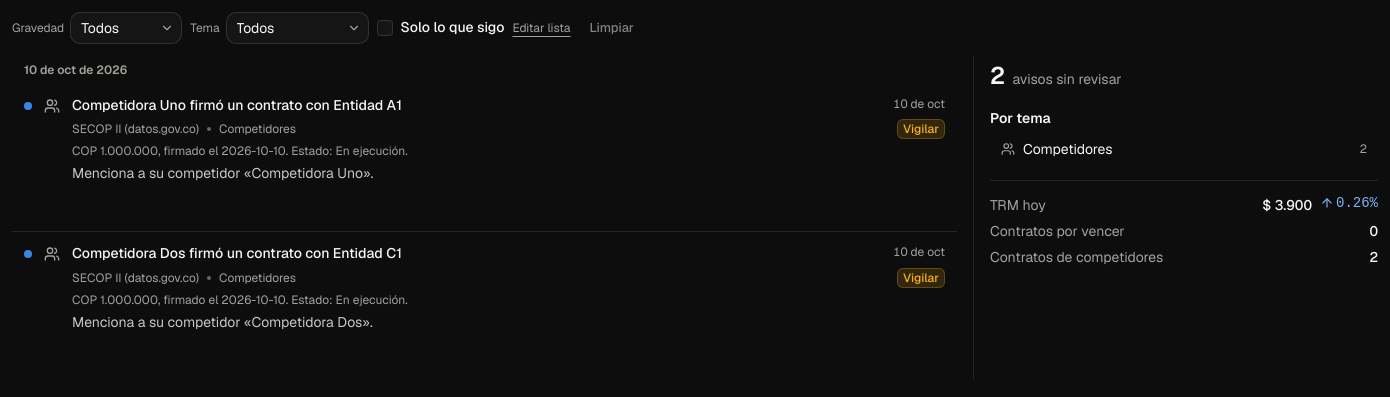
Test case: RadarView › watchlist filter (RF-15) › shows every new aviso until the toggle is on, then only the followed ones
The width and height of the screenshot is (1390, 397).
Expected: the button "Competidora Uno firmó un contrato con Entidad A1" is shown, left=72, top=96, right=402, bottom=115
Expected: the button "Competidora Dos firmó un contrato con Entidad C1" is shown, left=72, top=244, right=402, bottom=264
Click the checkbox named "Solo lo que sigo".
click(384, 28)  # box left=376, top=20, right=392, bottom=36
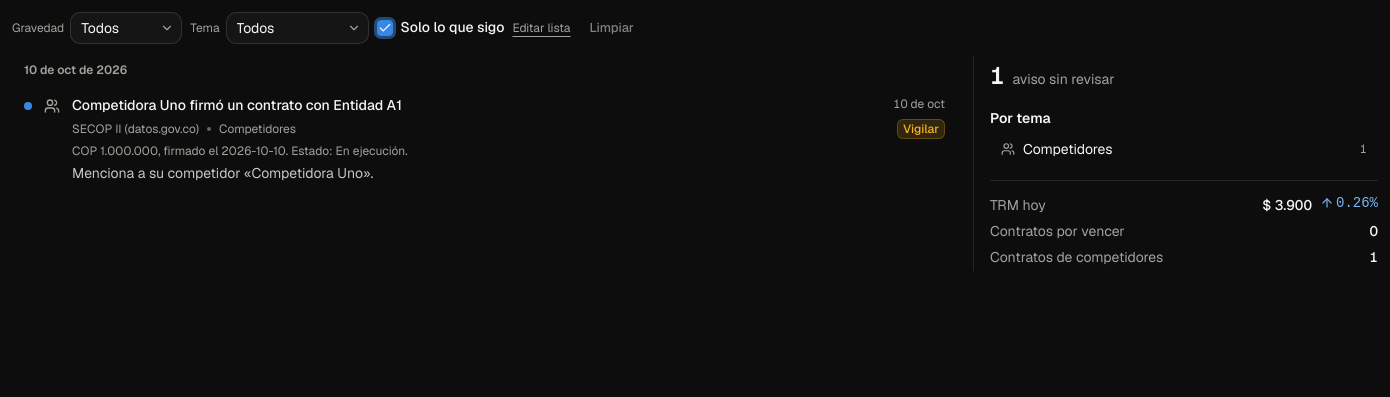
Expected: the button "Competidora Uno firmó un contrato con Entidad A1" is shown, left=72, top=96, right=402, bottom=115
Expected: the button "Competidora Dos firmó" is gone
